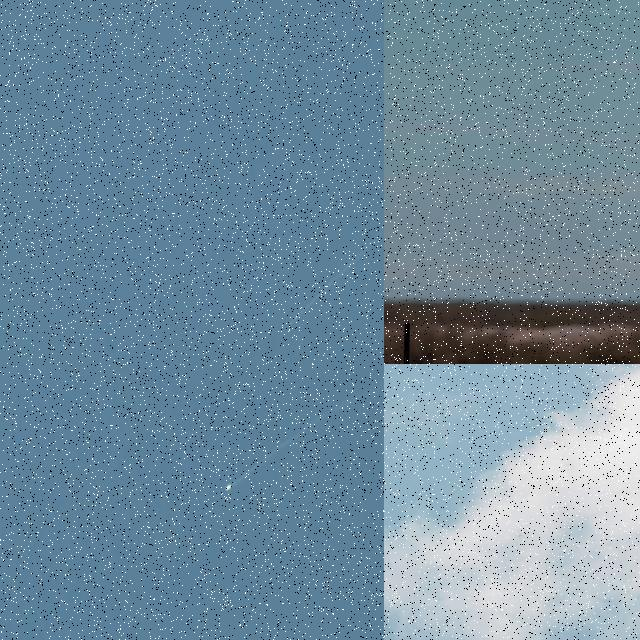Rocket: (289, 313, 300, 326), (225, 483, 232, 491), (514, 532, 523, 538)
